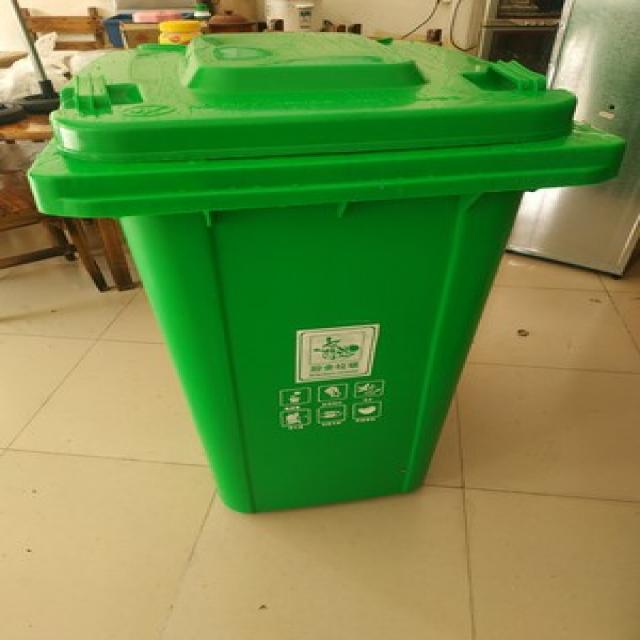ash bin: (28, 26, 621, 516)
